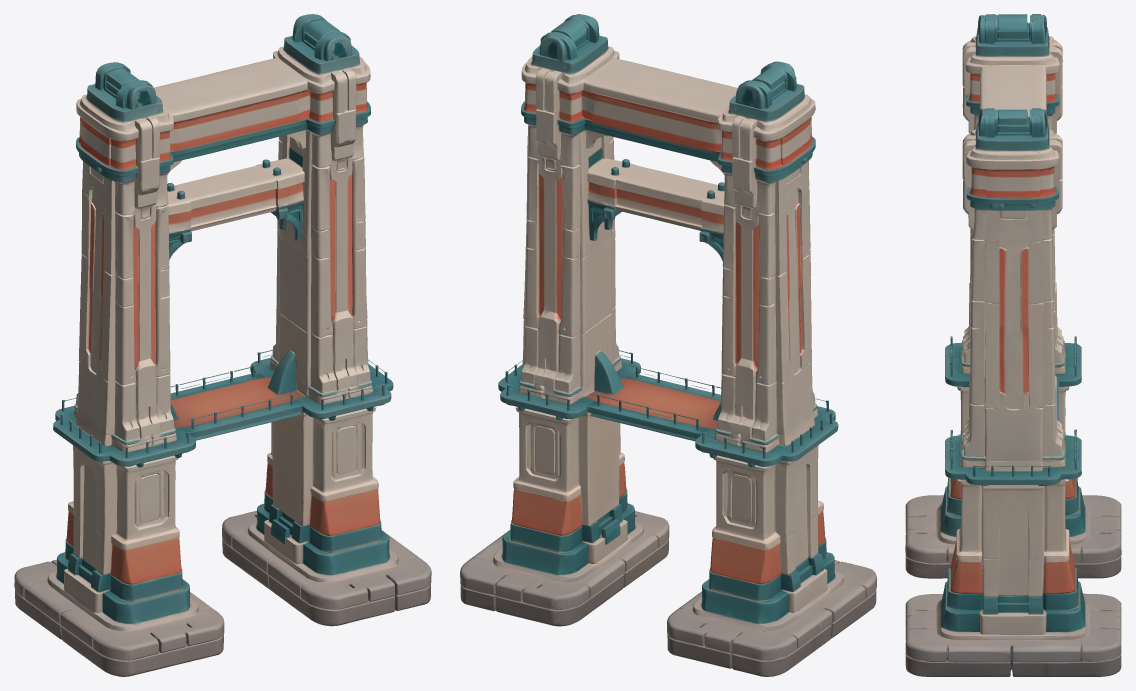
File: bridge-tower-cartoon-source.glb
3 renders of one model, left to right at view 1: azimuth 30°, elevation 25°; view 2: azimuth 150°, elevation 25°; view 3: azimuth 270°, elevation 25°, orthographic. The views are drawn at different scales.
Parts seen in each view (by area): view 1: model; view 2: model; view 3: model.
Boxes of the visible parts, x1,y1,x2,y2 form: model: (14,14,431,676); model: (460,14,876,676); model: (905,14,1121,676).
Bounding box in the file's own units: 1.18 × 1.9 × 0.6926.
Materials: 1 (1 with a texture image).
